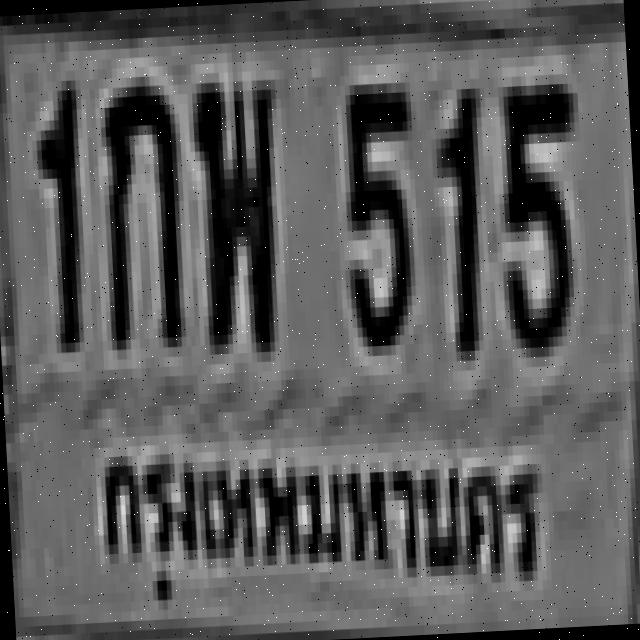1: (428, 79, 489, 352), (29, 76, 84, 340)
10GorGai: (94, 76, 182, 342)
39PhorPan: (188, 70, 282, 346)
5: (493, 74, 581, 349), (335, 73, 419, 348)
Bangkok: (89, 410, 552, 628)
